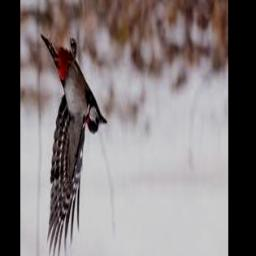Woodpecker: (41, 32, 107, 256)
